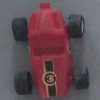rojo_sur: (14, 3, 87, 98)
